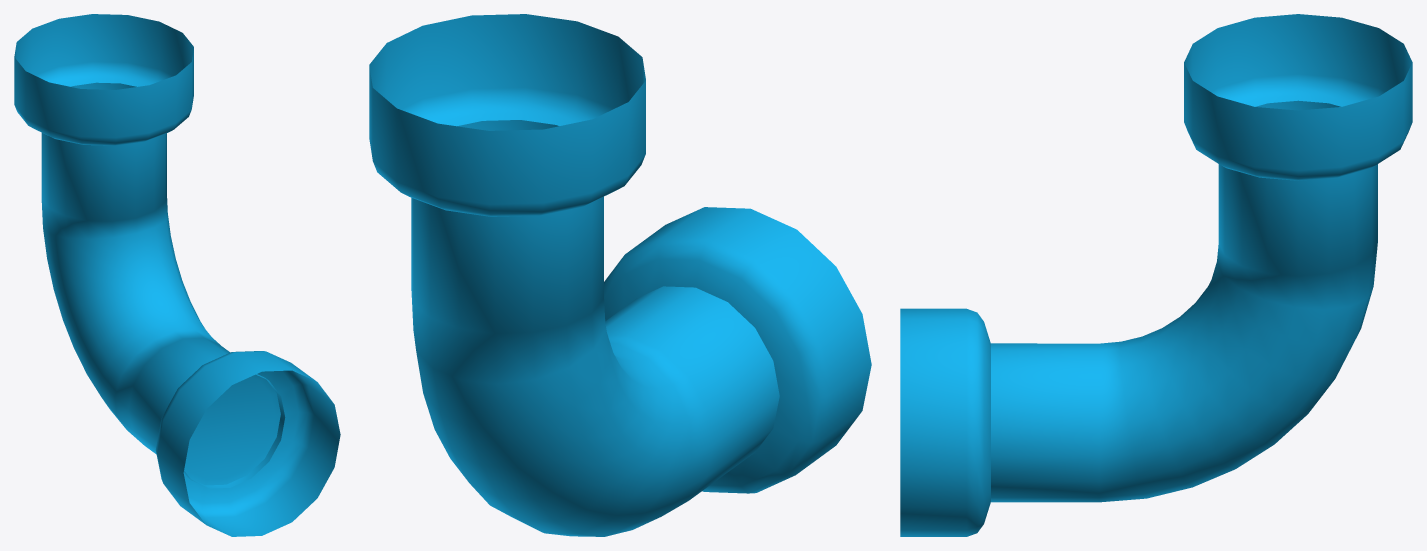
The model's file is pipe_angle_two_cap.gltf.
3 renders of one model, left to right at view 1: azimuth 30°, elevation 25°; view 2: azimuth 150°, elevation 25°; view 3: azimuth 270°, elevation 25°, orthographic. The views are drawn at different scales.
Visible parts, largest first — view 1: pipe_angle_two_cap; view 2: pipe_angle_two_cap; view 3: pipe_angle_two_cap.
Part boxes in pixels (x1,y1,x2,y2): pipe_angle_two_cap: (14,14,340,536); pipe_angle_two_cap: (369,14,871,536); pipe_angle_two_cap: (900,14,1412,536).
Size of the model in its own units: 0.5742 by 1.29 by 1.29.
